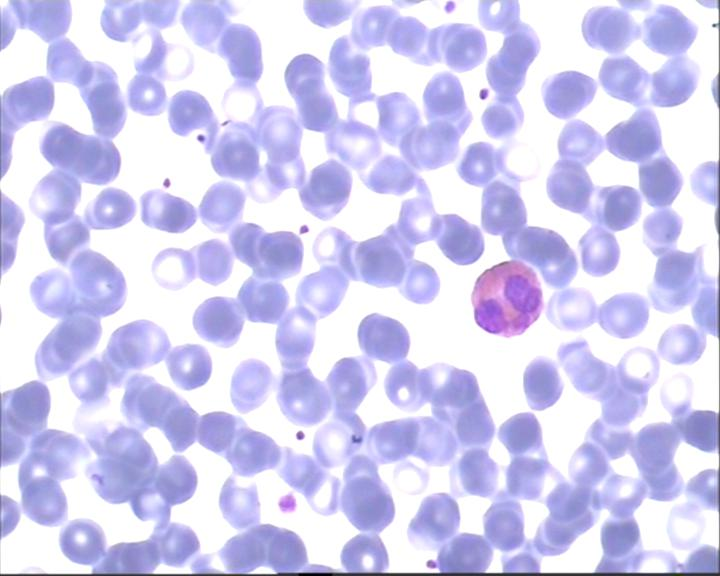eosi: (465, 257, 545, 339)
